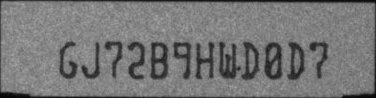0: (263, 41, 281, 80)
2: (127, 40, 147, 79)
7: (104, 40, 123, 78), (309, 41, 328, 78)
9: (173, 39, 191, 79)
B: (151, 40, 169, 79)
D: (287, 42, 305, 79), (242, 41, 259, 79)
G: (58, 40, 78, 79)
H: (194, 40, 213, 80)
J: (81, 42, 100, 79)
W: (218, 41, 238, 79)
